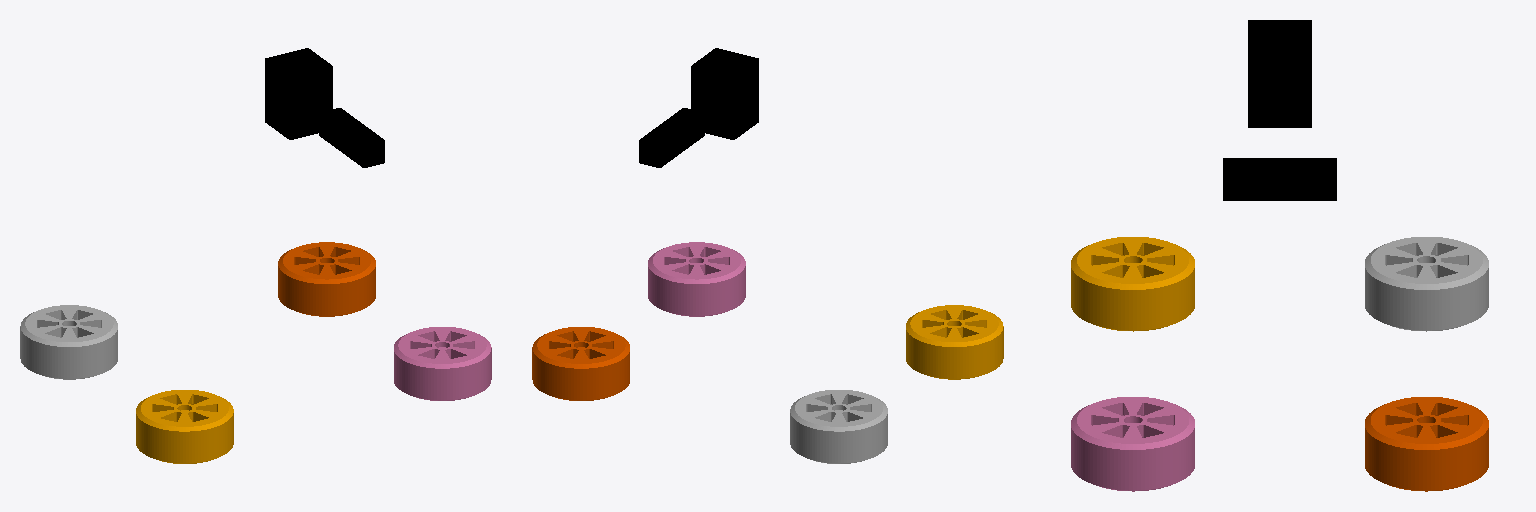
robot.urdf — mushr_tx2:
<?xml version="1.0" ?>
<robot name="mushr_tx2">
  <material name="red"><color rgba="1 0 0 1"/></material>
  <material name="orange"><color rgba="1 0.55 0 1"/></material>
  <material name="yellow"><color rgba="1 1 0 1"/></material>
  <material name="green"><color rgba="0 1 0 1"/></material>
  <material name="blue"><color rgba="0 0 1 1"/></material>
  <material name="purple"><color rgba="0.6 0.2 0.6 1"/></material>
  <material name="white"><color rgba="1 1 1 1"/></material>
  <material name="black"><color rgba="0 0 0 1"/></material>
  <material name="gold"><color rgba="1 0.84 0 1"/></material>
  <material name="teal"><color rgba="0 0.8 0.8 1"/></material>
  <material name="none"><color rgba="0 0 0 1"/></material>
  <material name="aluminum"><color rgba="0.5 0.5 0.5 1"/></material>
  <material name="plastic"><color rgba="0.1 0.1 0.1 1"/></material>

  <link name="world"/>
    <joint name="world_to_base_footprint" type="floating">
      <parent link="world"/>
      <child link="base_footprint"/>
    </joint>

  <link name="base_footprint">
    <inertial>
      <origin rpy="0 0 0" xyz="0 0 0"/>
      <mass value="0.1"/>
      <inertia ixx="1e-4" ixy="0" ixz="0" iyy="1e-4" iyz="0" izz="1e-4"/>
    </inertial>
  </link>

  <link name="base_link">
    <inertial>
      <origin rpy="0 0 0" xyz="0 0 0"/>
      <mass value="3.0"/>
      <inertia ixx="0.015725" ixy="0" ixz="0" iyy="0.033125" iyz="0" izz="0.043850"/>
    </inertial>
    <visual>
      <origin rpy="0 0 0" xyz="0 0 0"/>
      <geometry>
        <mesh filename="meshes/mushr_base_tx2.stl"/>
      </geometry>
    </visual>
    <collision>
      <origin rpy="0 0 0" xyz="0 0 0"/>
      <geometry>
        <mesh filename="meshes/mushr_base_collision_tx2.stl"/>
      </geometry>
    </collision>
  </link>

  <link name="platform_link">
    <inertial>
      <origin rpy="0 0 0" xyz="0 0 0"/>
      <mass value="0.2"/>
      <inertia ixx="0.000667" ixy="0" ixz="0" iyy="0.001500" iyz="0" izz="0.002167"/>
    </inertial>
  </link>

  <link name="insets_link">
    <inertial>
      <origin rpy="0 0 0" xyz="0 0 0"/>
      <mass value="0.1"/>
      <inertia ixx="1e-4" ixy="0" ixz="0" iyy="1e-4" iyz="0" izz="1e-4"/>
    </inertial>
  </link>

  <joint name="base_footprint_to_base_link" type="fixed">
    <origin rpy="0 0 0" xyz="0 0 0.094655"/>
    <parent link="base_footprint"/>
    <child link="base_link"/>
  </joint>

  <joint name="base_link_to_platform_link" type="fixed">
    <origin rpy="0 0 0" xyz="0 0 0.0"/>
    <parent link="base_link"/>
    <child link="platform_link"/>
  </joint>

  <joint name="base_link_to_insets_link" type="fixed">
    <origin rpy="0 0 0" xyz="0 0 0.0"/>
    <parent link="base_link"/>
    <child link="insets_link"/>
  </joint>

  <!-- FRONT LEFT WHEEL -->
  <link name="front_left/wheel_link">
    <inertial>
      <origin rpy="0 0 0" xyz="0 0 0"/>
      <mass value="0.1"/>
      <inertia ixx="0.000070" ixy="0" ixz="0" iyy="0.000125" iyz="0" izz="0.000070"/>
    </inertial>
    <visual>
      <origin rpy="0 0 3.141592" xyz="0 0 0"/>
      <geometry>
        <mesh filename="meshes/mushr_wheel.stl"/>
      </geometry>
    </visual>
    <collision>
      <origin rpy="1.5707963 0 0" xyz="0 0 0"/>
      <geometry>
        <cylinder radius="0.05" length="0.043"/>
      </geometry>
    </collision>
  </link>

  <!-- FRONT RIGHT WHEEL -->
  <link name="front_right/wheel_link">
    <inertial>
      <origin rpy="0 0 0" xyz="0 0 0"/>
      <mass value="0.1"/>
      <inertia ixx="0.000070" ixy="0" ixz="0" iyy="0.000125" iyz="0" izz="0.000070"/>
    </inertial>
    <visual>
      <origin rpy="0 0 0" xyz="0 0 0"/>
      <geometry>
        <mesh filename="meshes/mushr_wheel.stl"/>
      </geometry>
    </visual>
    <collision>
      <origin rpy="1.5707963 0 0" xyz="0 0 0"/>
      <geometry>
        <cylinder radius="0.05" length="0.043"/>
      </geometry>
    </collision>
  </link>

  <!-- BACK LEFT WHEEL -->
  <link name="back_left/wheel_link">
    <inertial>
      <origin rpy="0 0 0" xyz="0 0 0"/>
      <mass value="0.1"/>
      <inertia ixx="0.000070" ixy="0" ixz="0" iyy="0.000125" iyz="0" izz="0.000070"/>
    </inertial>
    <visual>
      <origin rpy="0 0 3.141592" xyz="0 0 0"/>
      <geometry>
        <mesh filename="meshes/mushr_wheel.stl"/>
      </geometry>
    </visual>
    <collision>
      <origin rpy="1.5707963 0 0" xyz="0 0 0"/>
      <geometry>
        <cylinder radius="0.05" length="0.043"/>
      </geometry>
    </collision>
  </link>

  <!-- BACK RIGHT WHEEL -->
  <link name="back_right/wheel_link">
    <inertial>
      <origin rpy="0 0 0" xyz="0 0 0"/>
      <mass value="0.1"/>
      <inertia ixx="0.000070" ixy="0" ixz="0" iyy="0.000125" iyz="0" izz="0.000070"/>
    </inertial>
    <visual>
      <origin rpy="0 0 0" xyz="0 0 0"/>
      <geometry>
        <mesh filename="meshes/mushr_wheel.stl"/>
      </geometry>
    </visual>
    <collision>
      <origin rpy="1.5707963 0 0" xyz="0 0 0"/>
      <geometry>
        <cylinder radius="0.05" length="0.043"/>
      </geometry>
    </collision>
  </link>

  <!-- WHEEL FRICTION PROPERTIES -->
  

  

  

  

  <!-- CAMERA -->
  <joint name="camera_joint" type="fixed">
    <origin rpy="0 0 0" xyz="0.10075 0.0 0.165"/>
    <parent link="base_link"/>
    <child link="camera_bottom_screw_frame"/>
  </joint>

  <link name="camera_bottom_screw_frame"/>

  <joint name="camera_link_joint" type="fixed">
    <origin rpy="0 0 0" xyz="0 0 0"/>
    <parent link="camera_bottom_screw_frame"/>
    <child link="camera_link"/>
  </joint>

  <link name="camera_link">
    <visual>
      <origin rpy="0 0 0" xyz="0 0 0"/>
      <geometry>
        <box size="0.025 0.09 0.025"/>
      </geometry>
      <material name="black"/>
    </visual>
    <collision>
      <origin rpy="0 0 0" xyz="0 0 0"/>
      <geometry>
        <box size="0.001 0.001 0.001"/>
      </geometry>
    </collision>
    <inertial>
      <mass value="0.072"/>
      <origin xyz="0 0 0"/>
      <inertia ixx="0.000008" ixy="0.0" ixz="0.0" iyy="0.000052" iyz="0.0" izz="0.000052"/>
    </inertial>
  </link>

  <joint name="camera_optical_joint" type="fixed">
    <origin xyz="0 0 0" rpy="-1.5707963 0 -1.5707963"/>
    <parent link="camera_link"/>
    <child link="camera_link_optical"/>
  </joint>

  <link name="camera_link_optical"/>

  <!-- STEERING LINKS -->
  <link name="front_left/wheel_steer_link">
    <inertial>
      <origin rpy="0 0 0" xyz="0 0 0"/>
      <mass value="0.01"/>
      <inertia ixx="1e-05" iyy="1e-05" izz="1e-05" ixy="0" ixz="0" iyz="0"/>
    </inertial>
  </link>

  <link name="front_right/wheel_steer_link">
    <inertial>
      <origin rpy="0 0 0" xyz="0 0 0"/>
      <mass value="0.01"/>
      <inertia ixx="1e-05" iyy="1e-05" izz="1e-05" ixy="0" ixz="0" iyz="0"/>
    </inertial>
  </link>

  <!-- STEERING JOINTS -->
  <joint name="front_left_wheel_steer" type="revolute">
    <axis xyz="0 0 1"/>
    <limit effort="10.0" lower="-0.6" upper="0.6" velocity="2.0"/>
    <origin rpy="0 0 0" xyz="0.1385 0.115 -0.045855"/>
    <parent link="base_link"/>
    <child link="front_left/wheel_steer_link"/>
  </joint>

  <joint name="front_right_wheel_steer" type="revolute">
    <axis xyz="0 0 1"/>
    <limit effort="10.0" lower="-0.6" upper="0.6" velocity="2.0"/>
    <origin rpy="0 0 0" xyz="0.1385 -0.115 -0.045855"/>
    <parent link="base_link"/>
    <child link="front_right/wheel_steer_link"/>
  </joint>

  <!-- DRIVE JOINTS -->
  <joint name="front_left_wheel_throttle" type="continuous">
    <axis xyz="0 1 0"/>
    <limit effort="10.0" velocity="100.0"/>
    <origin rpy="0 0 0" xyz="0 0 0"/>
    <parent link="front_left/wheel_steer_link"/>
    <child link="front_left/wheel_link"/>
  </joint>

  <joint name="front_right_wheel_throttle" type="continuous">
    <axis xyz="0 1 0"/>
    <limit effort="10.0" velocity="100.0"/>
    <origin rpy="0 0 0" xyz="0 0 0"/>
    <parent link="front_right/wheel_steer_link"/>
    <child link="front_right/wheel_link"/>
  </joint>

  <joint name="back_left_wheel_throttle" type="continuous">
    <axis xyz="0 1 0"/>
    <limit effort="10.0" velocity="100.0"/>
    <origin rpy="0 0 0" xyz="-0.158 0.115 -0.045855"/>
    <parent link="base_link"/>
    <child link="back_left/wheel_link"/>
  </joint>

  <joint name="back_right_wheel_throttle" type="continuous">
    <axis xyz="0 1 0"/>
    <limit effort="10.0" velocity="100.0"/>
    <origin rpy="0 0 0" xyz="-0.158 -0.115 -0.045855"/>
    <parent link="base_link"/>
    <child link="back_right/wheel_link"/>
  </joint>

  <!-- CAMERA SENSOR -->
  

  <!-- DRIVE PLUGIN -->
  

  <joint name="laser_joint" type="fixed">
    <origin rpy="0 0 0" xyz="0.03975 0.0 0.180"/>
    <parent link="base_link"/>
    <child link="laser"/>
  </joint>

  <link name="laser">
    <visual>
      <origin rpy="0 0 0" xyz="0 0 0.0474"/>
      <geometry>
        <box size="0.05 0.05 0.07"/>
      </geometry>
      <material name="black"/>
    </visual>
    <collision>
      <origin rpy="0 0 0" xyz="0 0 0"/>
      <geometry>
        <box size="0.010 0.010 0.010"/>
      </geometry>
    </collision>
    <inertial>
      <!-- mass + inertia sourced directly from robotnik_sensors hokuyo_ust10lx.urdf.xacro -->
      <origin rpy="0 0 0" xyz="0.0 0 0.035"/>
      <mass value="0.130"/>
      <!-- solid cuboid inertia, w=0.05 h=0.05 d=0.07, m=0.130 -->
      <inertia ixx="0.0000817" ixy="0.0" ixz="0.0" iyy="0.0000817" iyz="0.0" izz="0.0000542"/>
    </inertial>
  </link>

  <!-- LIDAR SENSOR PLUGIN (Gazebo) -->
  <!-- Specs: 270 deg FOV, 0.06-10m range, 40Hz, 0.25 deg resolution, 1081 samples -->
  <!-- Matches urg_node's real frame_id: "laser", confirmed via rostopic echo /scan -->
  

</robot>

--- What the picture shows (computed from the rendered views, not written in the file) ---
The picture shows the robot from 3 angles, left to right: view 1: azimuth 30°, elevation 25°; view 2: azimuth 150°, elevation 25°; view 3: azimuth 270°, elevation 25°; orthographic projection.
Robot: mushr_tx2 — 15 links, 14 joints (2 revolute, 4 continuous, 7 fixed, 1 floating); root link world; default pose: every joint at zero.
Links seen in each view (by area): view 1: front_left/wheel_link, back_left/wheel_link, back_right/wheel_link, front_right/wheel_link, laser, camera_link; view 2: front_right/wheel_link, back_right/wheel_link, back_left/wheel_link, front_left/wheel_link, laser, camera_link; view 3: front_left/wheel_link, front_right/wheel_link, back_left/wheel_link, back_right/wheel_link, laser, camera_link.
Link boxes in pixels (bbox=[...]): front_left/wheel_link: bbox=[278, 242, 375, 316]; back_left/wheel_link: bbox=[20, 305, 117, 379]; back_right/wheel_link: bbox=[136, 390, 233, 463]; front_right/wheel_link: bbox=[394, 327, 491, 400]; laser: bbox=[265, 48, 332, 139]; camera_link: bbox=[319, 108, 384, 167]; front_right/wheel_link: bbox=[648, 242, 745, 316]; back_right/wheel_link: bbox=[906, 305, 1003, 379]; back_left/wheel_link: bbox=[790, 390, 887, 463]; front_left/wheel_link: bbox=[532, 327, 629, 400]; laser: bbox=[691, 48, 758, 139]; camera_link: bbox=[639, 108, 704, 167]; front_left/wheel_link: bbox=[1365, 397, 1488, 491]; front_right/wheel_link: bbox=[1071, 397, 1194, 491]; back_left/wheel_link: bbox=[1365, 237, 1488, 331]; back_right/wheel_link: bbox=[1071, 237, 1194, 331]; laser: bbox=[1248, 20, 1311, 127]; camera_link: bbox=[1223, 158, 1336, 200].
Size in the robot's own frame: 0.3941 by 0.3276 by 0.3288 metres.
Meshes: 2 distinct files referenced, 4 mesh visuals loaded (1 ASCII STL); not drawn: 1 (reference not matched to a file when rendering).
